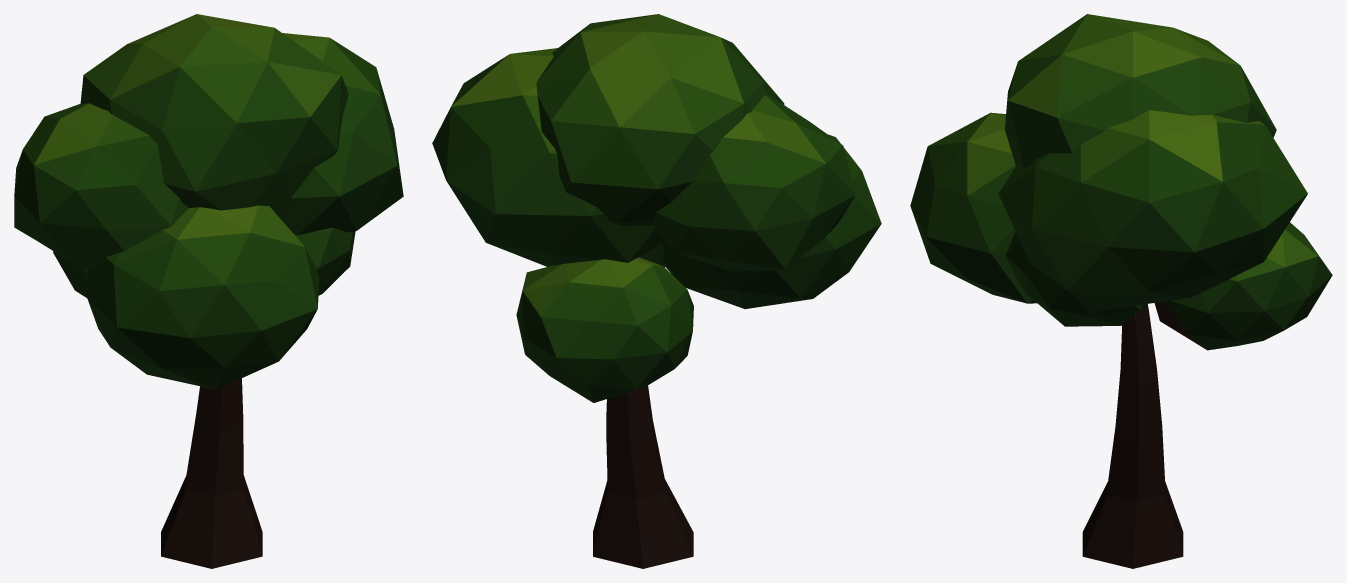
File: tree_orchard_round.glb
3 renders of one model, left to right at view 1: azimuth 30°, elevation 25°; view 2: azimuth 150°, elevation 25°; view 3: azimuth 270°, elevation 25°, orthographic.
Parts seen in each view (by area): view 1: tree_orchard_round; view 2: tree_orchard_round; view 3: tree_orchard_round.
Boxes of the visible parts, left/top/right/bottom form: tree_orchard_round: left=14, top=14, right=403, bottom=568; tree_orchard_round: left=432, top=14, right=881, bottom=568; tree_orchard_round: left=910, top=14, right=1332, bottom=568.
Bounding box in the file's own units: 5.54 × 7.3 × 5.45.
